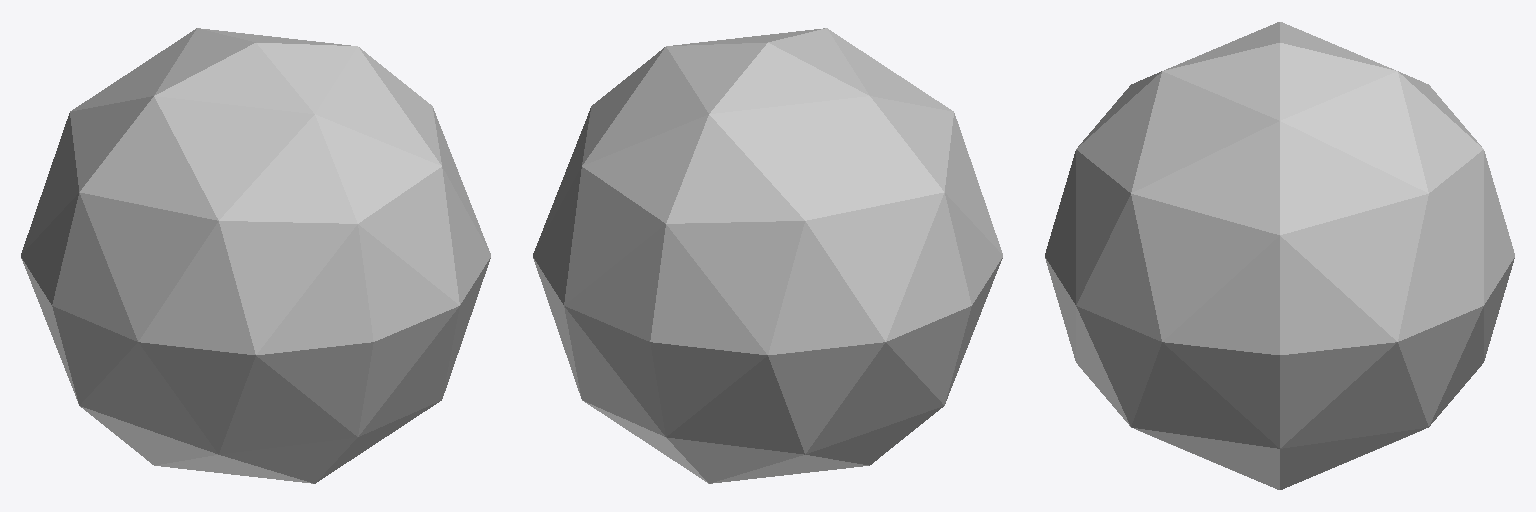
File: moon.obj
3 views of the same model, side by side, from view 1: azimuth 30°, elevation 25°; view 2: azimuth 150°, elevation 25°; view 3: azimuth 270°, elevation 25° (orthographic).
Visible parts, largest first — view 1: GeoSphere002_07_-_Default_0; view 2: GeoSphere002_07_-_Default_0; view 3: GeoSphere002_07_-_Default_0.
Boxes of the visible parts, x1=… form: GeoSphere002_07_-_Default_0: x1=21, y1=28, x2=490, y2=483; GeoSphere002_07_-_Default_0: x1=533, y1=28, x2=1002, y2=483; GeoSphere002_07_-_Default_0: x1=1045, y1=22, x2=1514, y2=489.
Bounding box in the file's own units: 25.76 × 25.76 × 25.76.